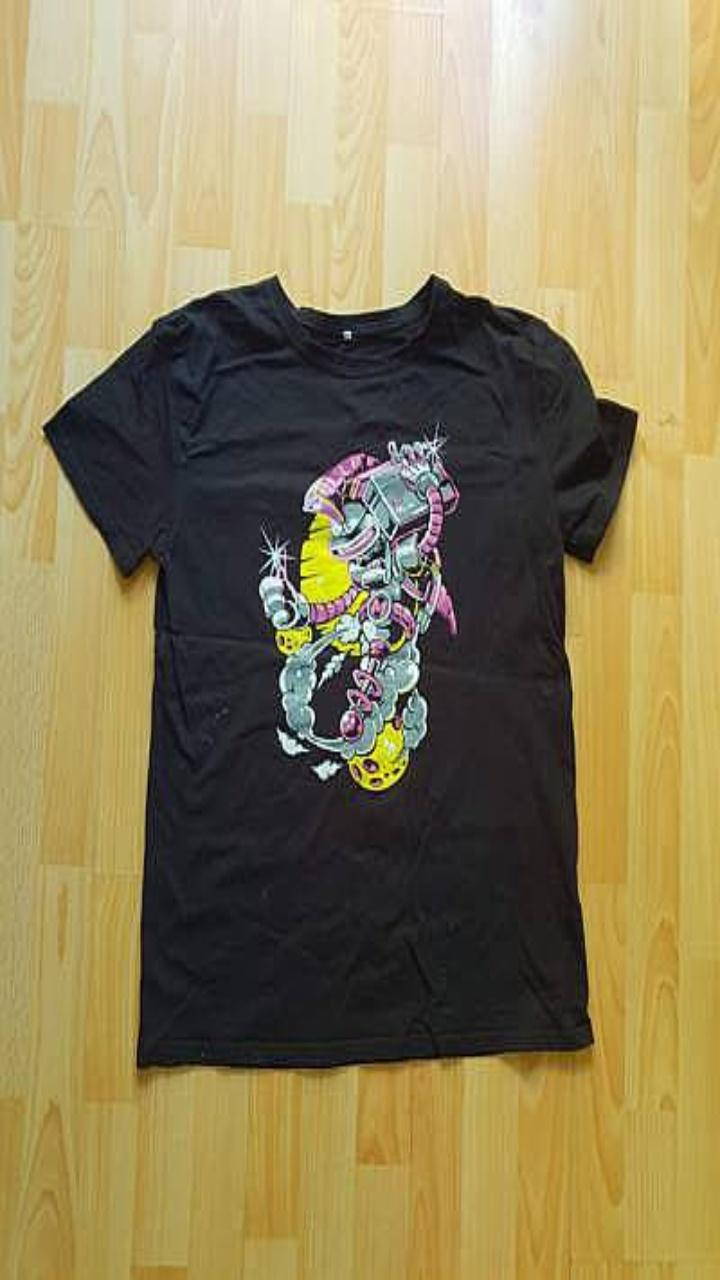T-Shirt: (42, 274, 636, 1066)
